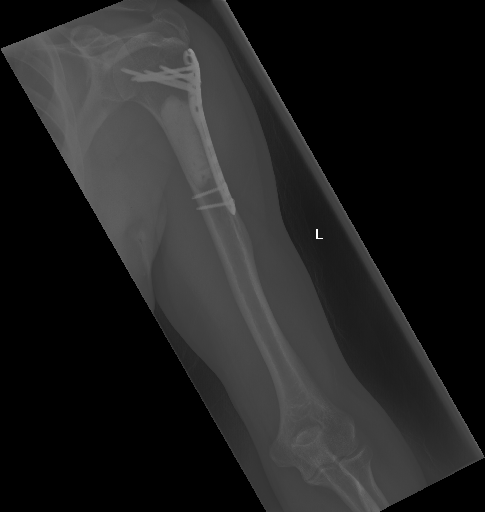implant: (120, 47, 205, 100), (187, 175, 239, 216)
